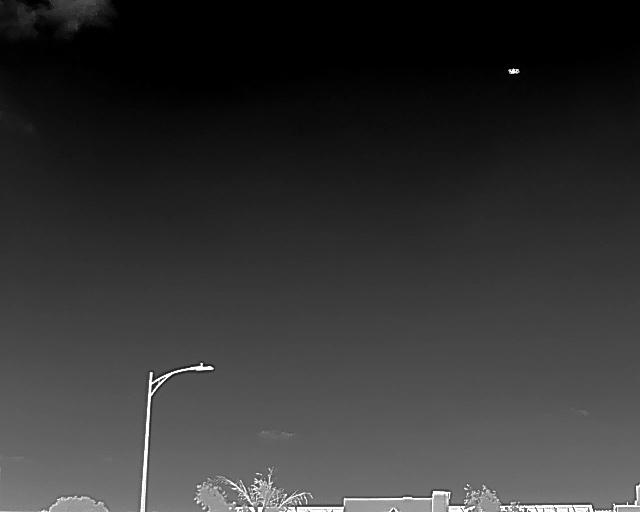fpv-drone: (508, 68, 519, 74)
